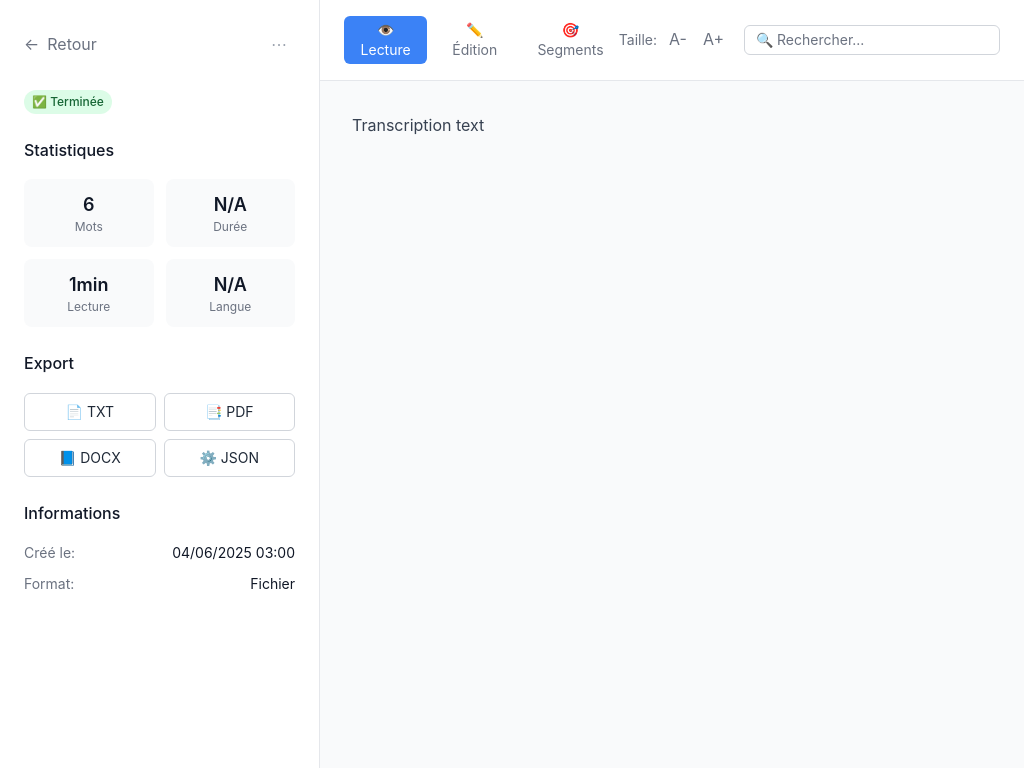
Test: TranscriptionDetail.vue › switches between view modes correctly
expect the element with test id "read-mode" is shown: met, box [352,115,484,135]
Click the button with test id "edit-mode-btn" at (475, 40), box [435,16,514,64]
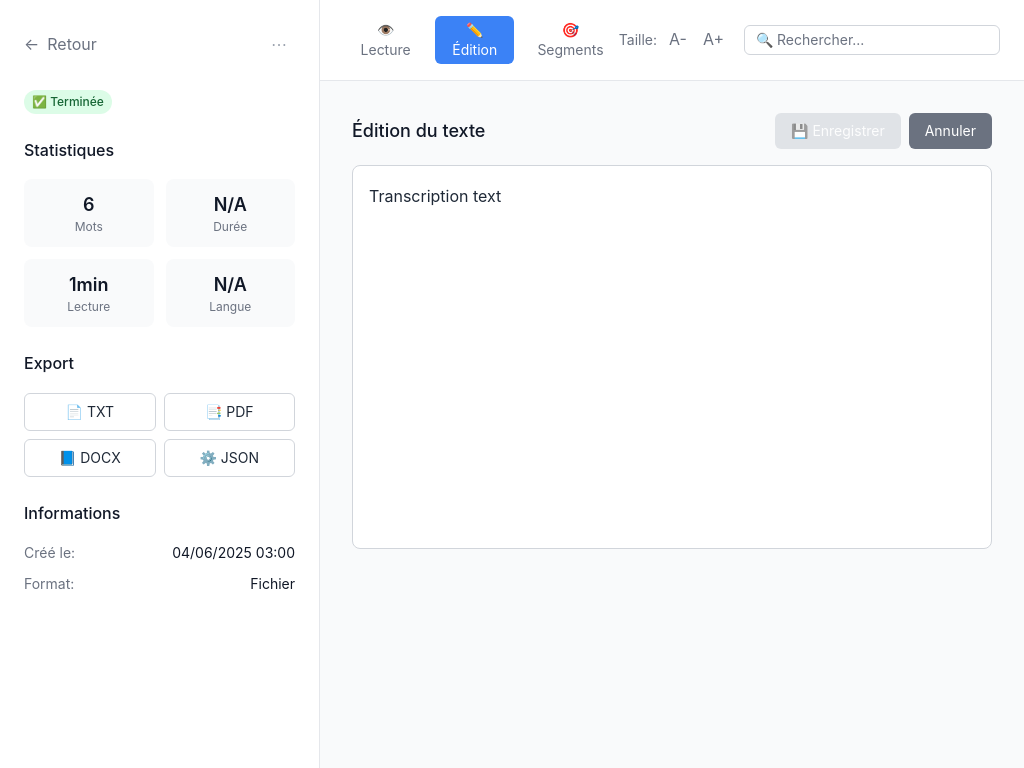
expect the element with test id "edit-mode" is shown: met, box [320,81,1023,589]
Click the button with test id "segments-mode-btn" at (570, 40), box [522,16,619,64]
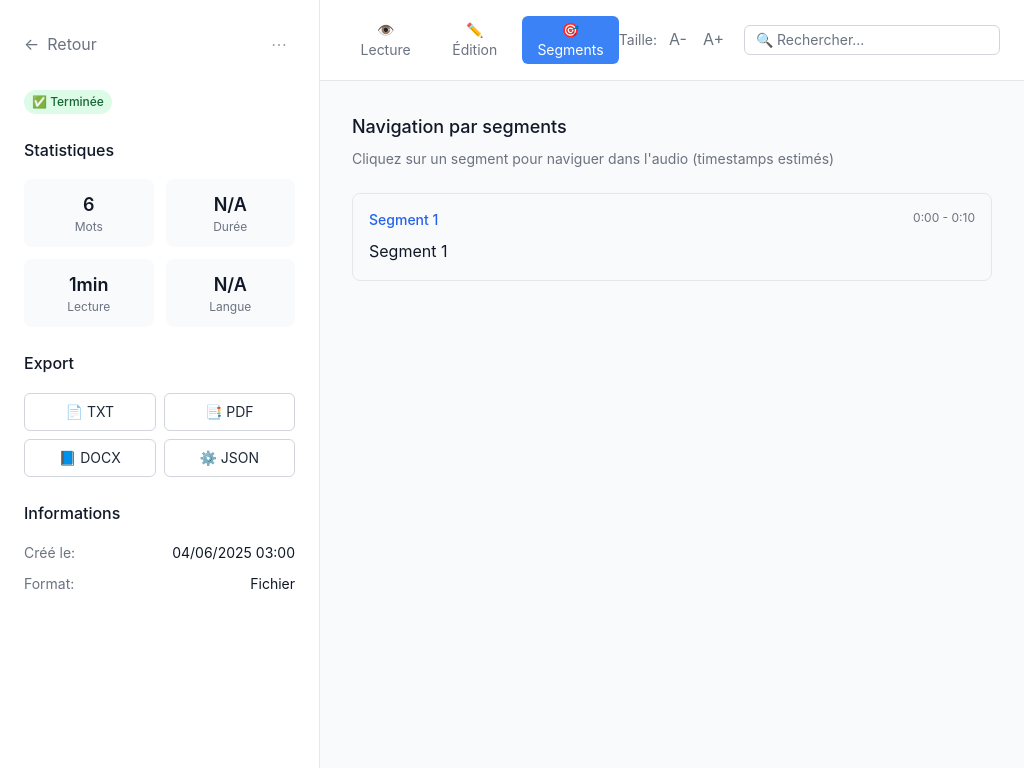
expect the element with test id "segments-mode" is shown: met, box [320,81,1023,313]
